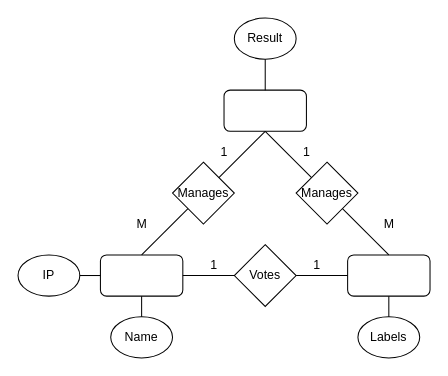
Image size: 448x376. Some labels were removed from this diagram. Each missing label, with the box of its shape:
Choices: (347, 254, 430, 296)
Server: (223, 89, 306, 131)
Voters: (99, 254, 183, 296)
